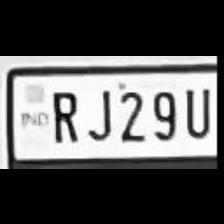2: (114, 84, 146, 140)
9: (148, 83, 178, 139)
J: (84, 82, 114, 140)
R: (46, 86, 80, 142)
U: (180, 81, 214, 137)
